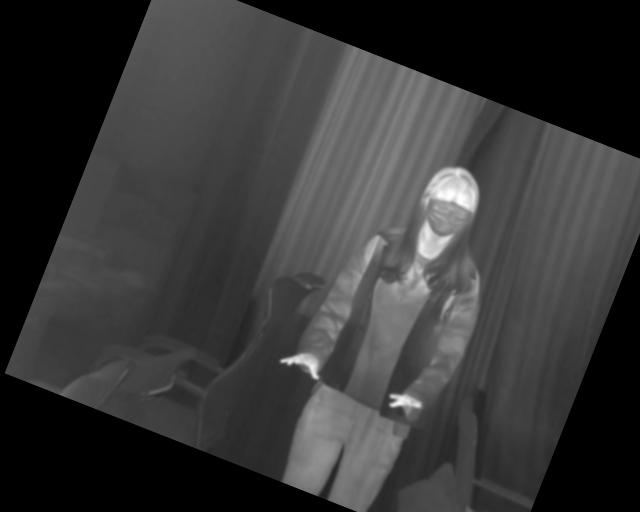face: (409, 157, 488, 246)
